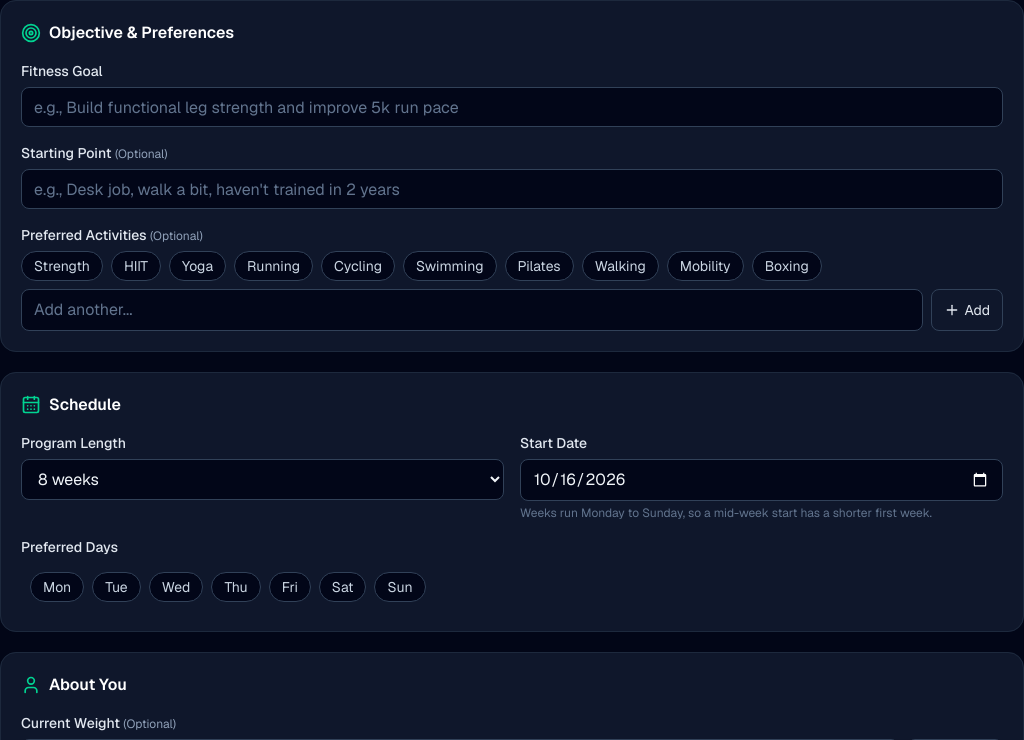
Scenario: Enter key and wrapping fields › still lets Enter add an activity in the 'Add another' box, and keeps focus there
In the field named "Add another activity": x=472, y=310 [21,289,923,331], type "Rowing"
Then press Enter
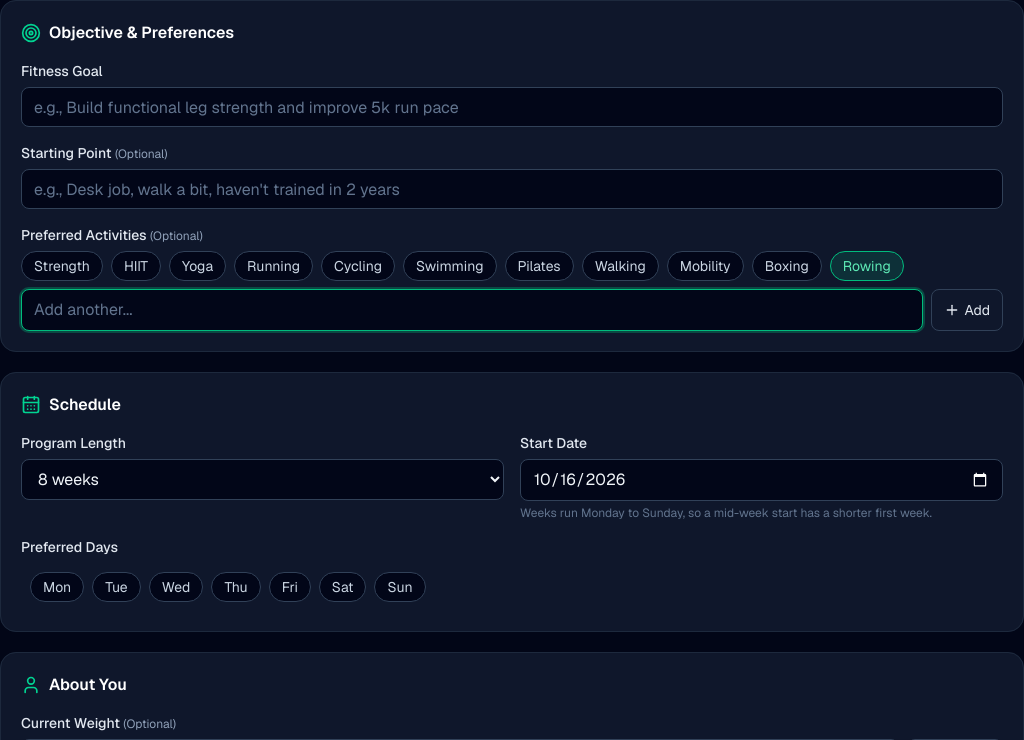
expect the button "Rowing" is shown: met, box [830,251,904,281]
